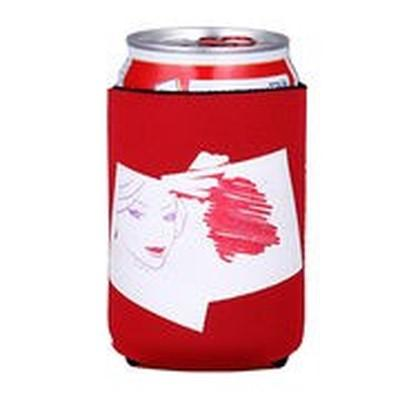beer: (107, 26, 310, 373)
